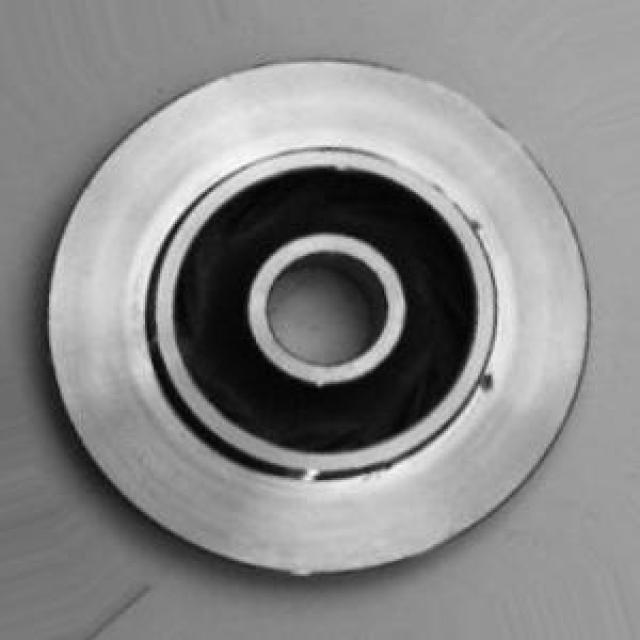Defect: (471, 366, 505, 401)
